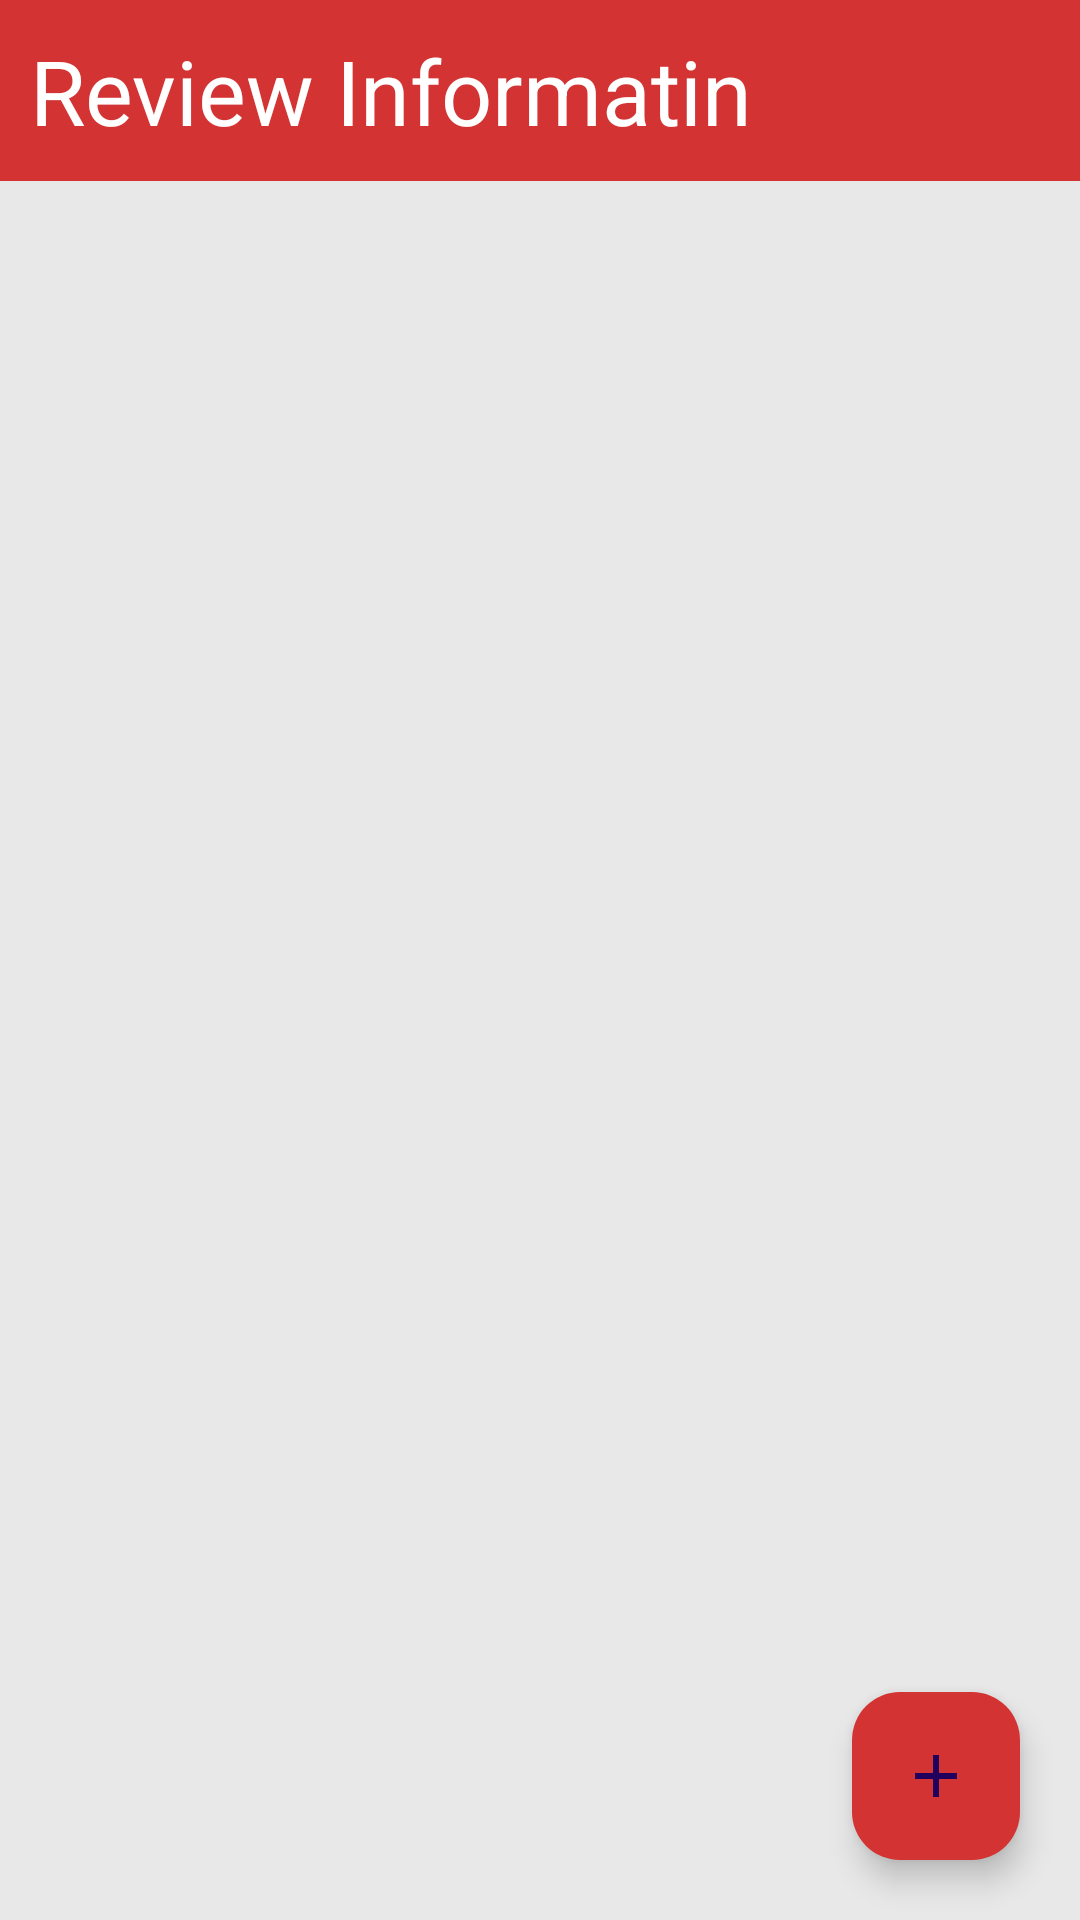

Where to tap for icons on this 1080×1920 app screen, as point (x, y):
Add New Record: point (936, 1776)
